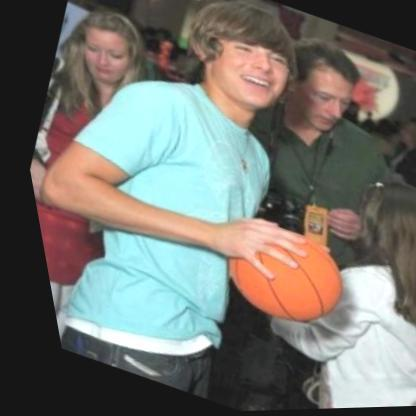basketball: (195, 206, 359, 348)
